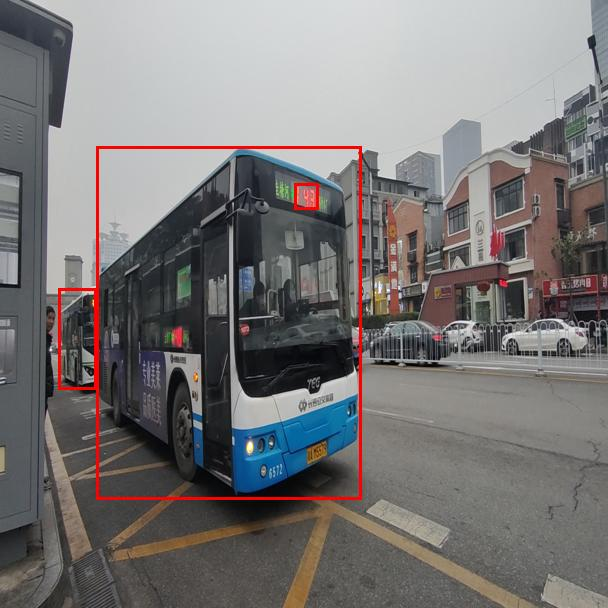bus: (96, 146, 361, 499), (58, 288, 96, 389)
screen: (294, 183, 318, 209)
